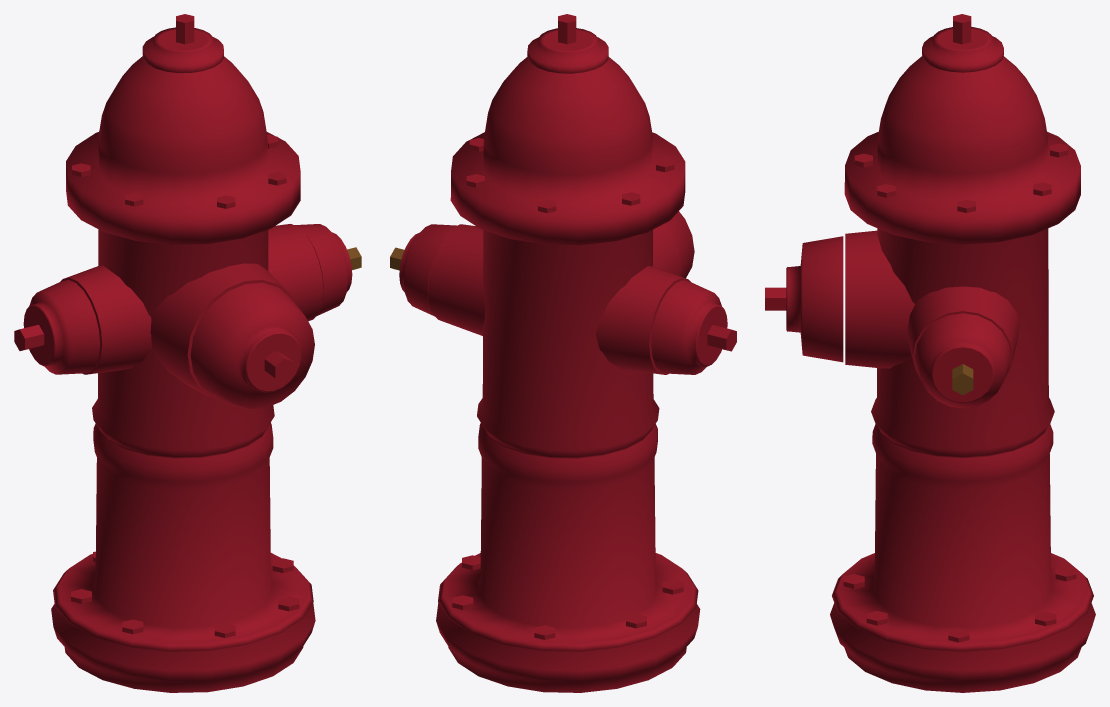
The model's file is fire_hydrant_normal.fbx.
3 views of the same model, side by side, from view 1: azimuth 30°, elevation 25°; view 2: azimuth 150°, elevation 25°; view 3: azimuth 270°, elevation 25° (orthographic).
Visible parts, largest first — view 1: pCylinder4; view 2: pCylinder4; view 3: pCylinder4.
Part boxes in pixels (<box>): pCylinder4: <box>14,14,361,692</box>; pCylinder4: <box>390,14,736,692</box>; pCylinder4: <box>765,14,1095,692</box>.
Size of the model in its own units: 3.22 by 5.71 by 2.74.
